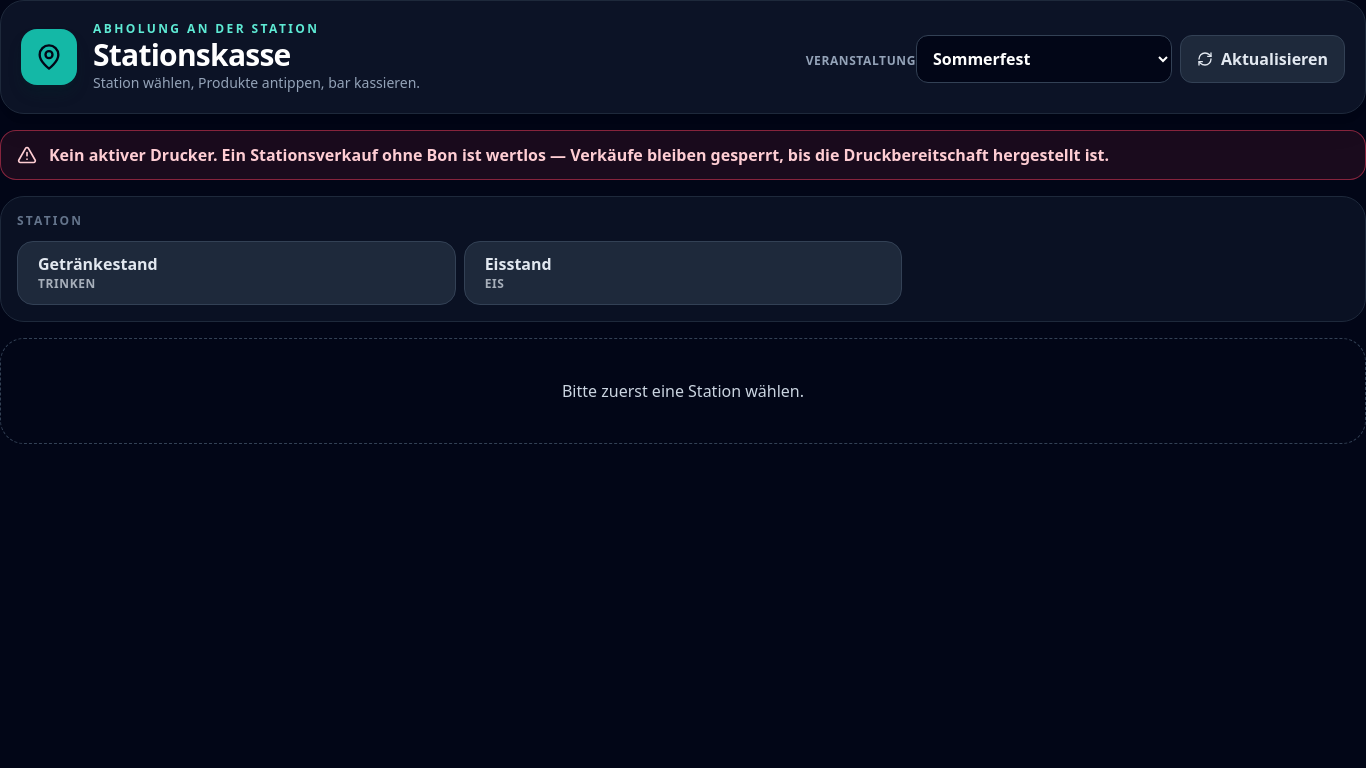
Scenario: Stationskasse › blockiert den Verkauf ohne bereiten Drucker
Click the button "Getränkestand Trinken" at (98, 264), box 17,241 -> 456,305
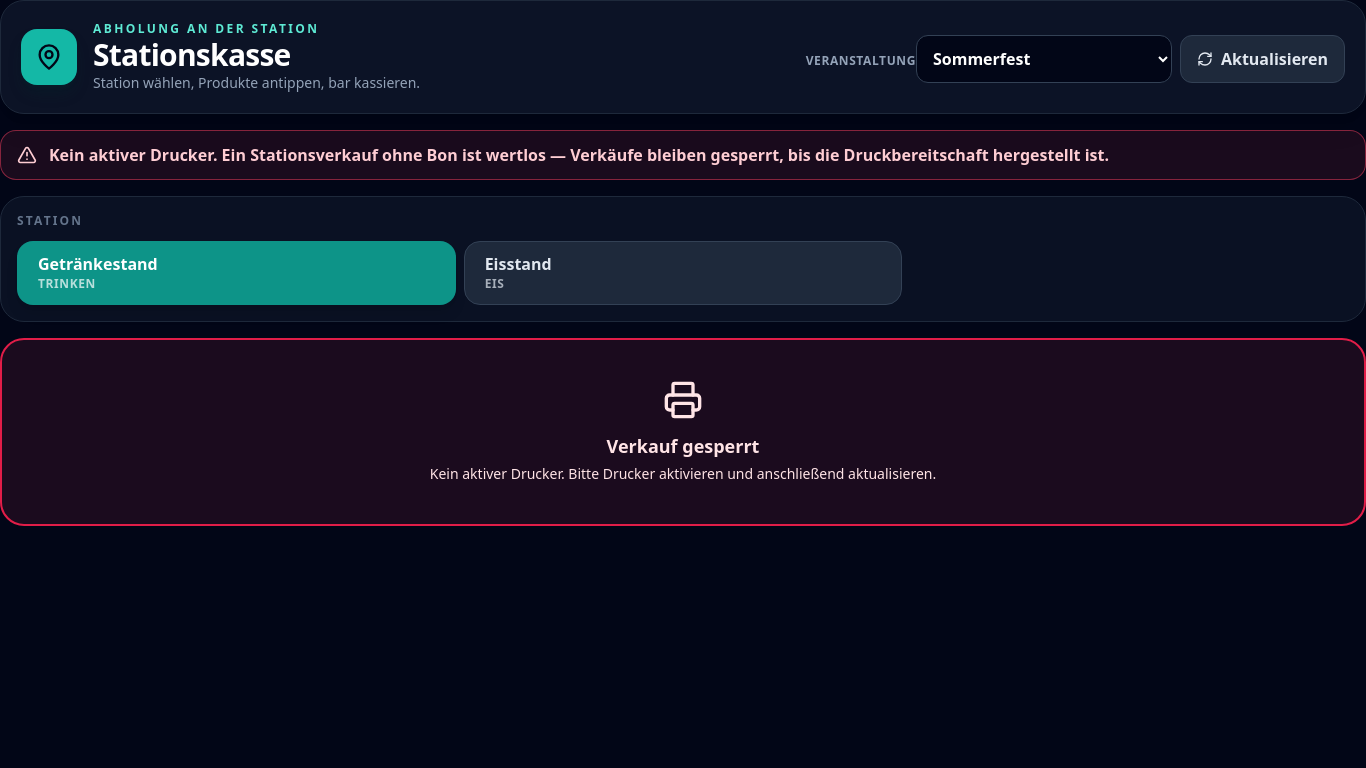
Check: the text "Verkauf gesperrt" is shown, box 607,434 -> 759,458
